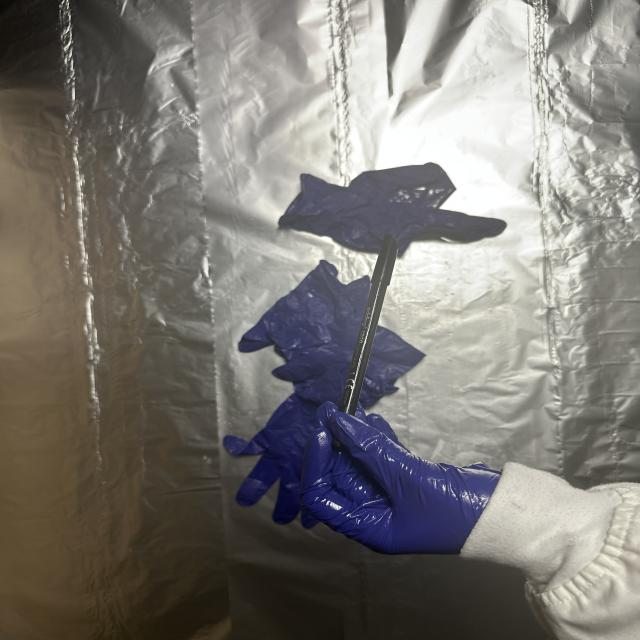gloves_contaminated: (301, 402, 501, 554)
